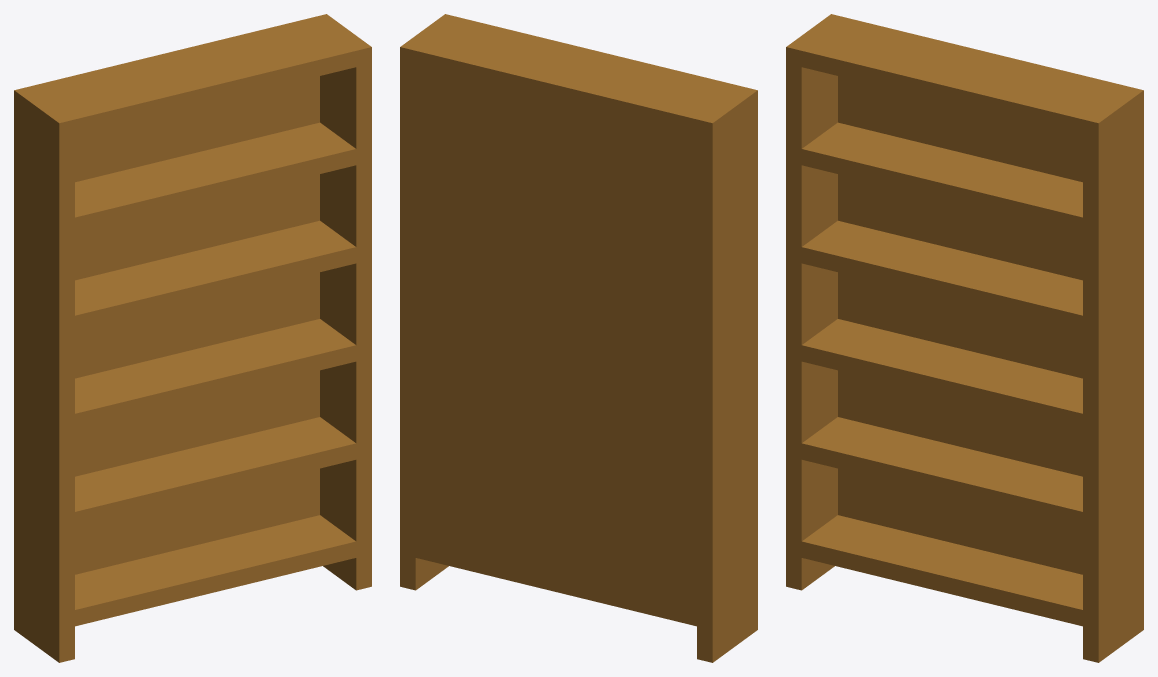
File: Shelf00.gltf
3 renders of one model, left to right at view 1: azimuth 30°, elevation 25°; view 2: azimuth 150°, elevation 25°; view 3: azimuth 330°, elevation 25°, orthographic.
Visible parts, largest first — view 1: Layer.1; view 2: Layer.1; view 3: Layer.1.
Part boxes in pixels (x1,y1,x2,y2): Layer.1: (14,14,371,662); Layer.1: (400,14,757,662); Layer.1: (786,14,1143,662).
Bounding box in the file's own units: 20 × 33 × 5.
